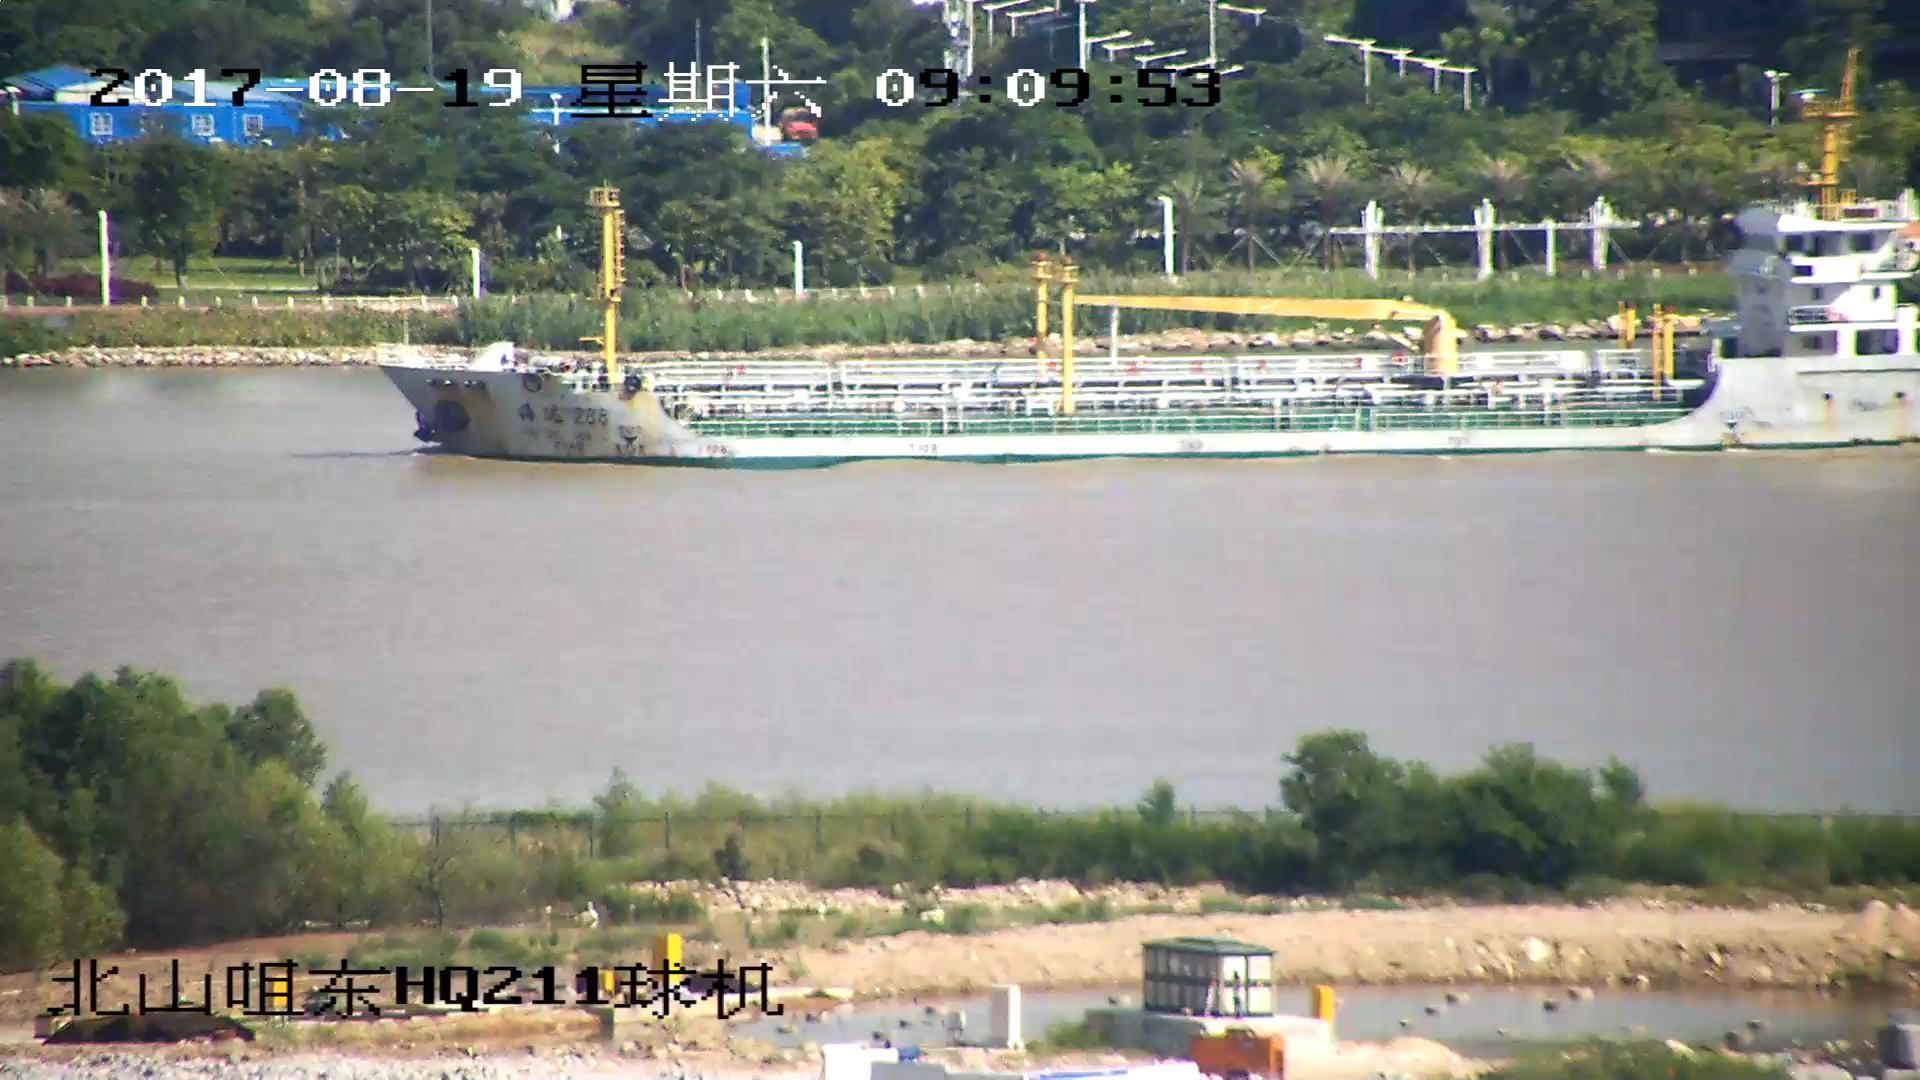Ship: (390, 135, 1920, 462)
